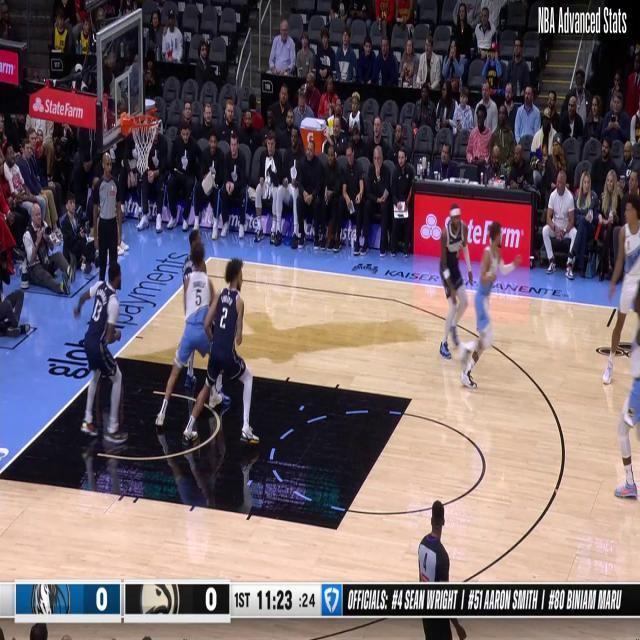player: (181, 256, 261, 451), (154, 232, 230, 430), (458, 220, 522, 392), (72, 258, 129, 448), (178, 231, 229, 407), (607, 187, 639, 377), (437, 202, 474, 362)
